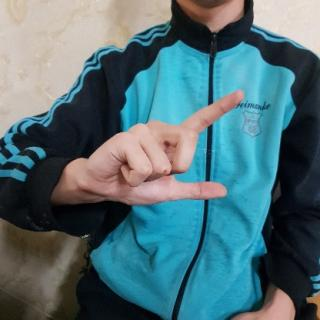LAAM: (76, 90, 248, 214)
